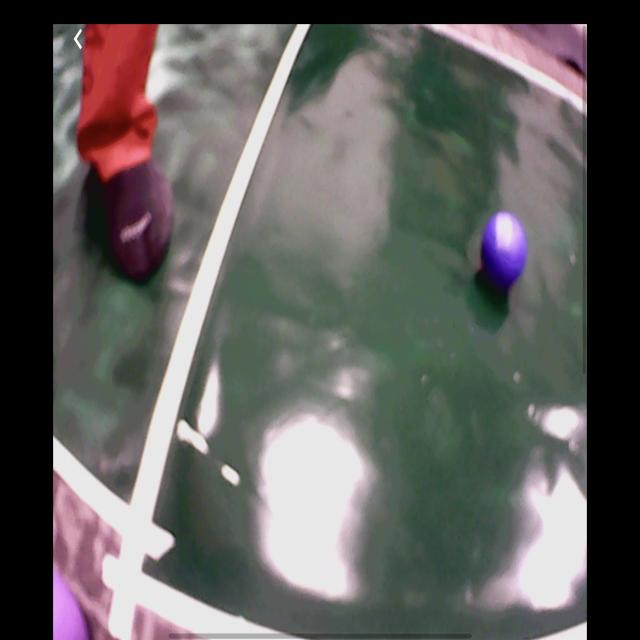ball: (482, 213, 527, 291), (54, 568, 89, 640)
